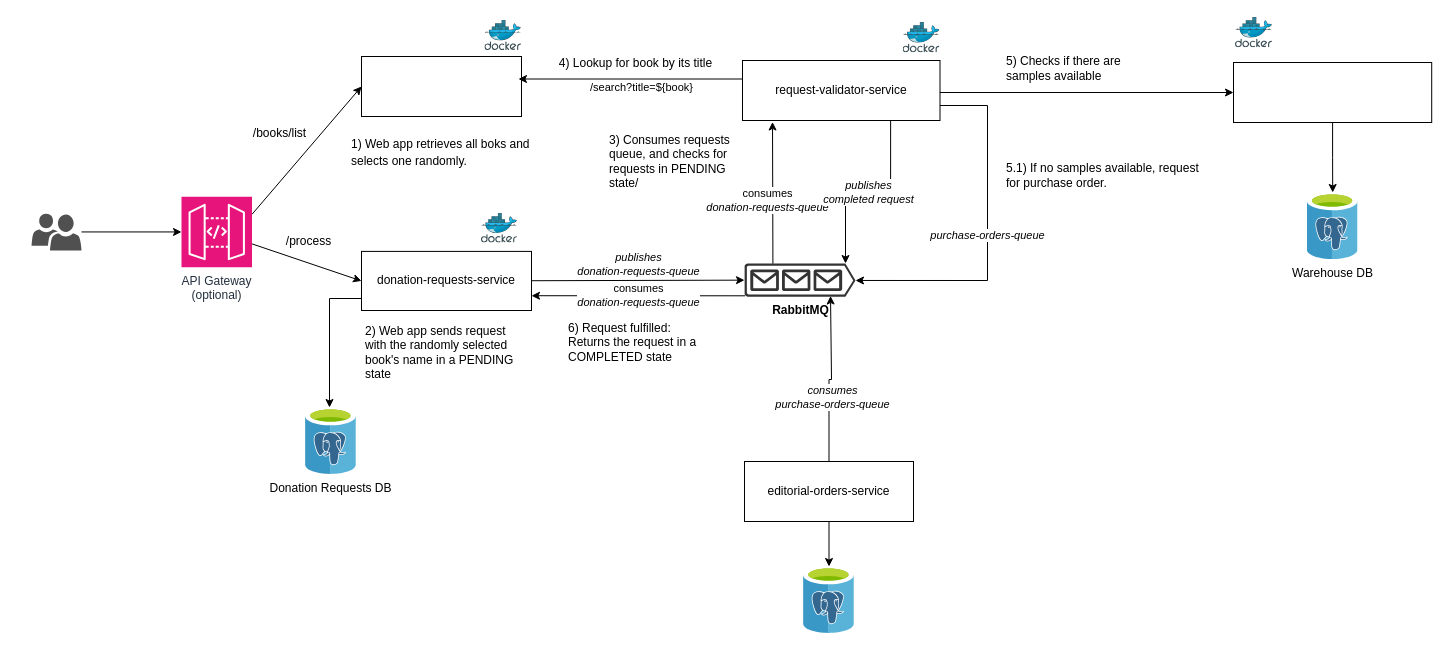
Image size: 1449x671. Some labels were removed from this diagram. The shapes that lost their labels are listed below. From the top down, each one's box as (x1, y1, x2, y2) in pixels, then its label:
(360, 56, 522, 116): books-catalog-service
(1232, 62, 1432, 122): warehouse-service
(31, 213, 81, 250): Clients / Users
(803, 566, 854, 633): Orders DB
